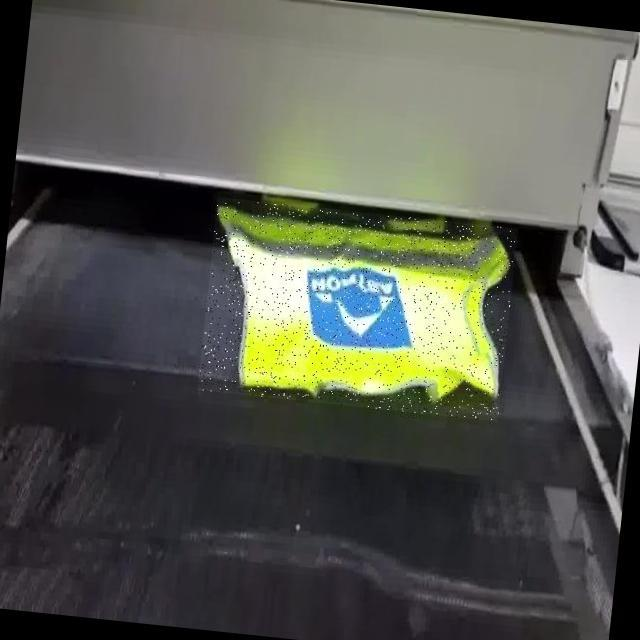Safety Vest: (197, 197, 518, 422)
